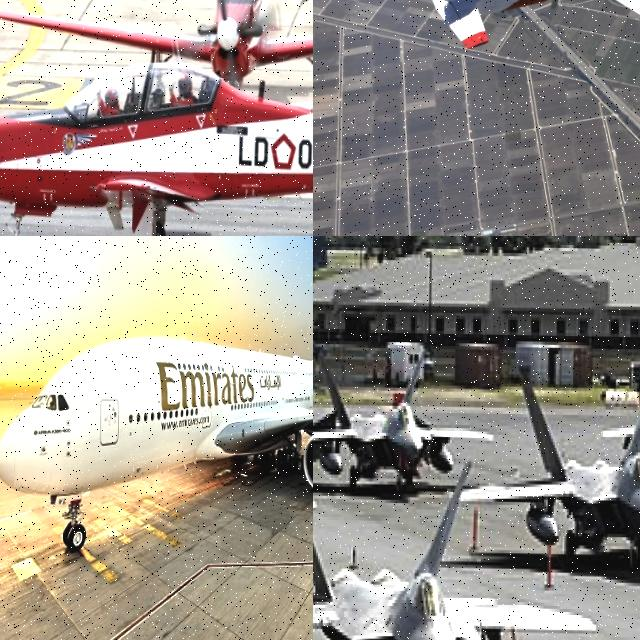A380: (0, 283, 313, 565)
F22: (313, 462, 596, 640), (465, 340, 640, 575), (313, 339, 500, 489)
KT-1: (0, 0, 313, 236), (0, 0, 313, 87), (417, 0, 640, 70)
